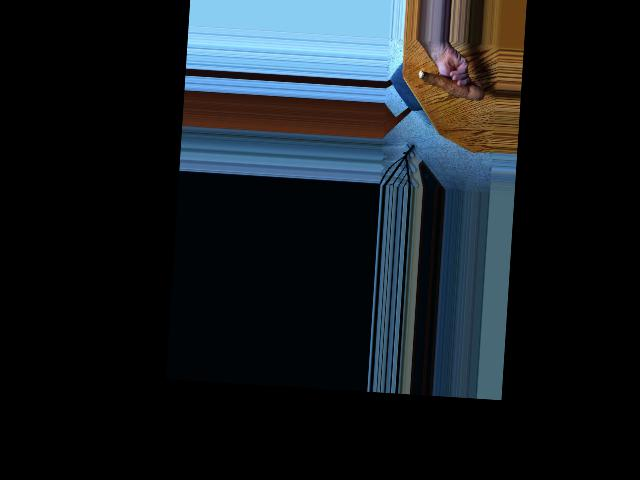sweet_potato: (415, 69, 484, 103)
